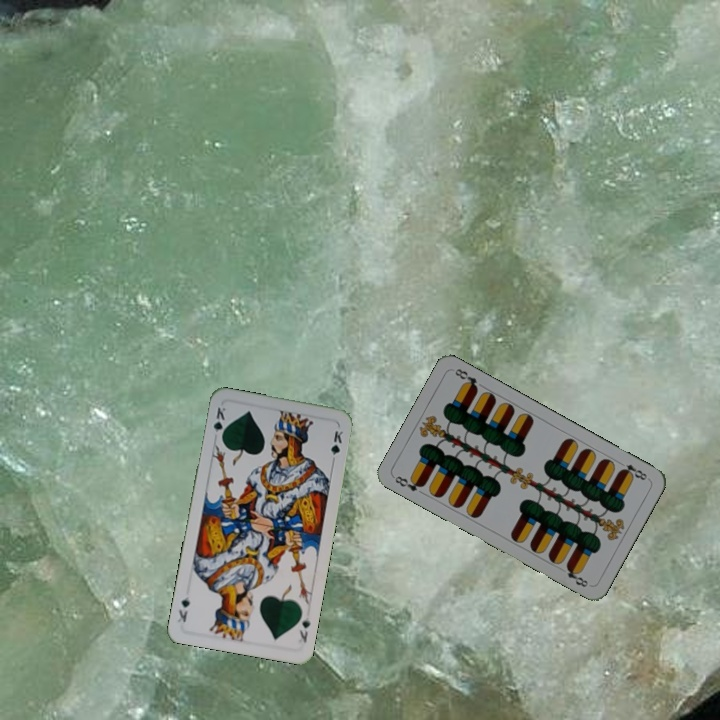E8: (615, 457, 651, 483), (391, 472, 427, 494)
GK: (209, 403, 228, 443), (294, 613, 313, 645)
